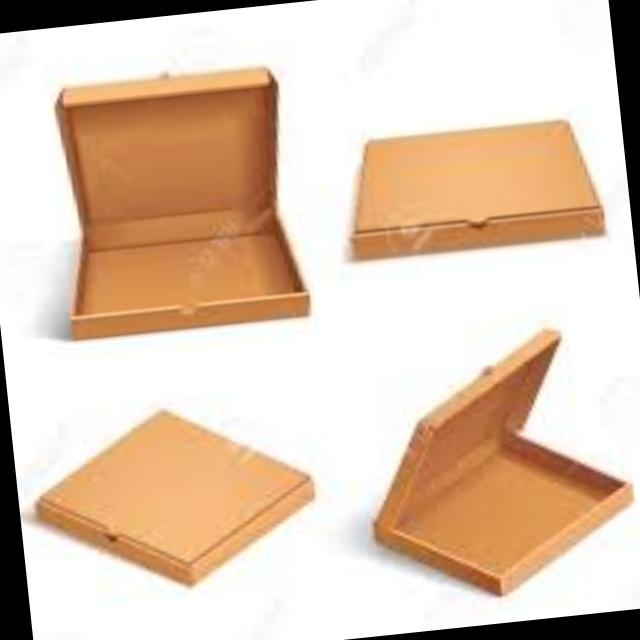cardboard paper: (369, 324, 625, 587), (52, 63, 301, 331), (32, 405, 307, 576), (348, 116, 598, 252)
